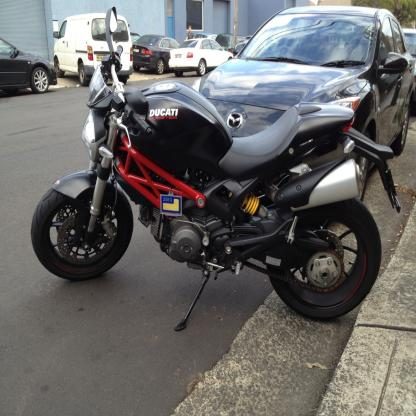Car: (192, 2, 414, 200), (53, 11, 133, 88), (2, 36, 56, 88), (169, 37, 235, 78), (134, 32, 181, 75), (400, 27, 416, 106), (215, 34, 247, 53), (194, 35, 216, 43), (248, 36, 252, 45)
